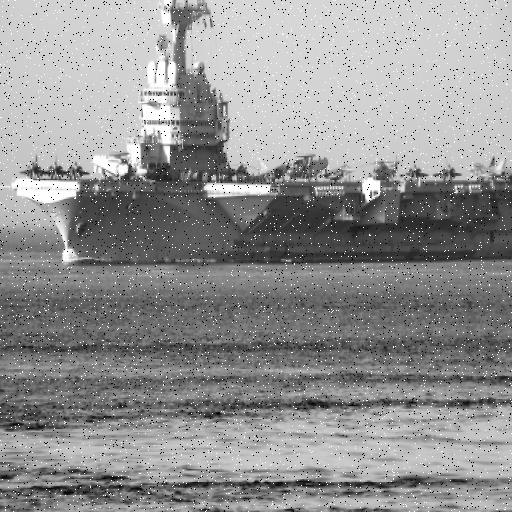Portanaves: (9, 1, 512, 267)
